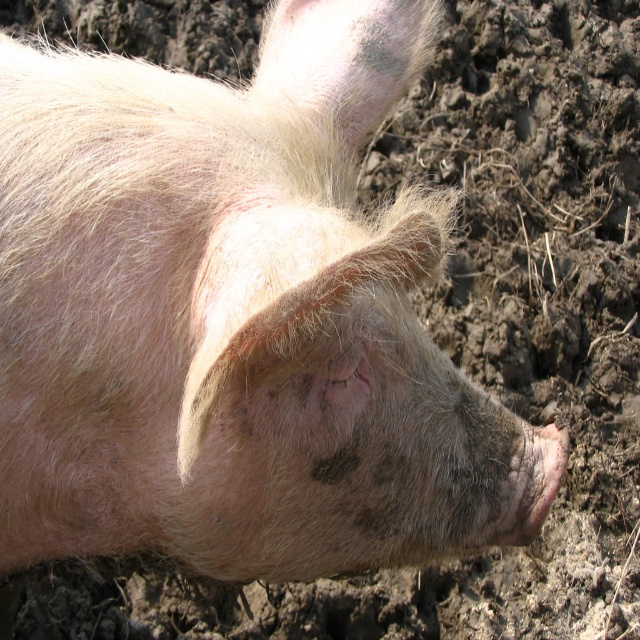Pig: (0, 0, 573, 580)
